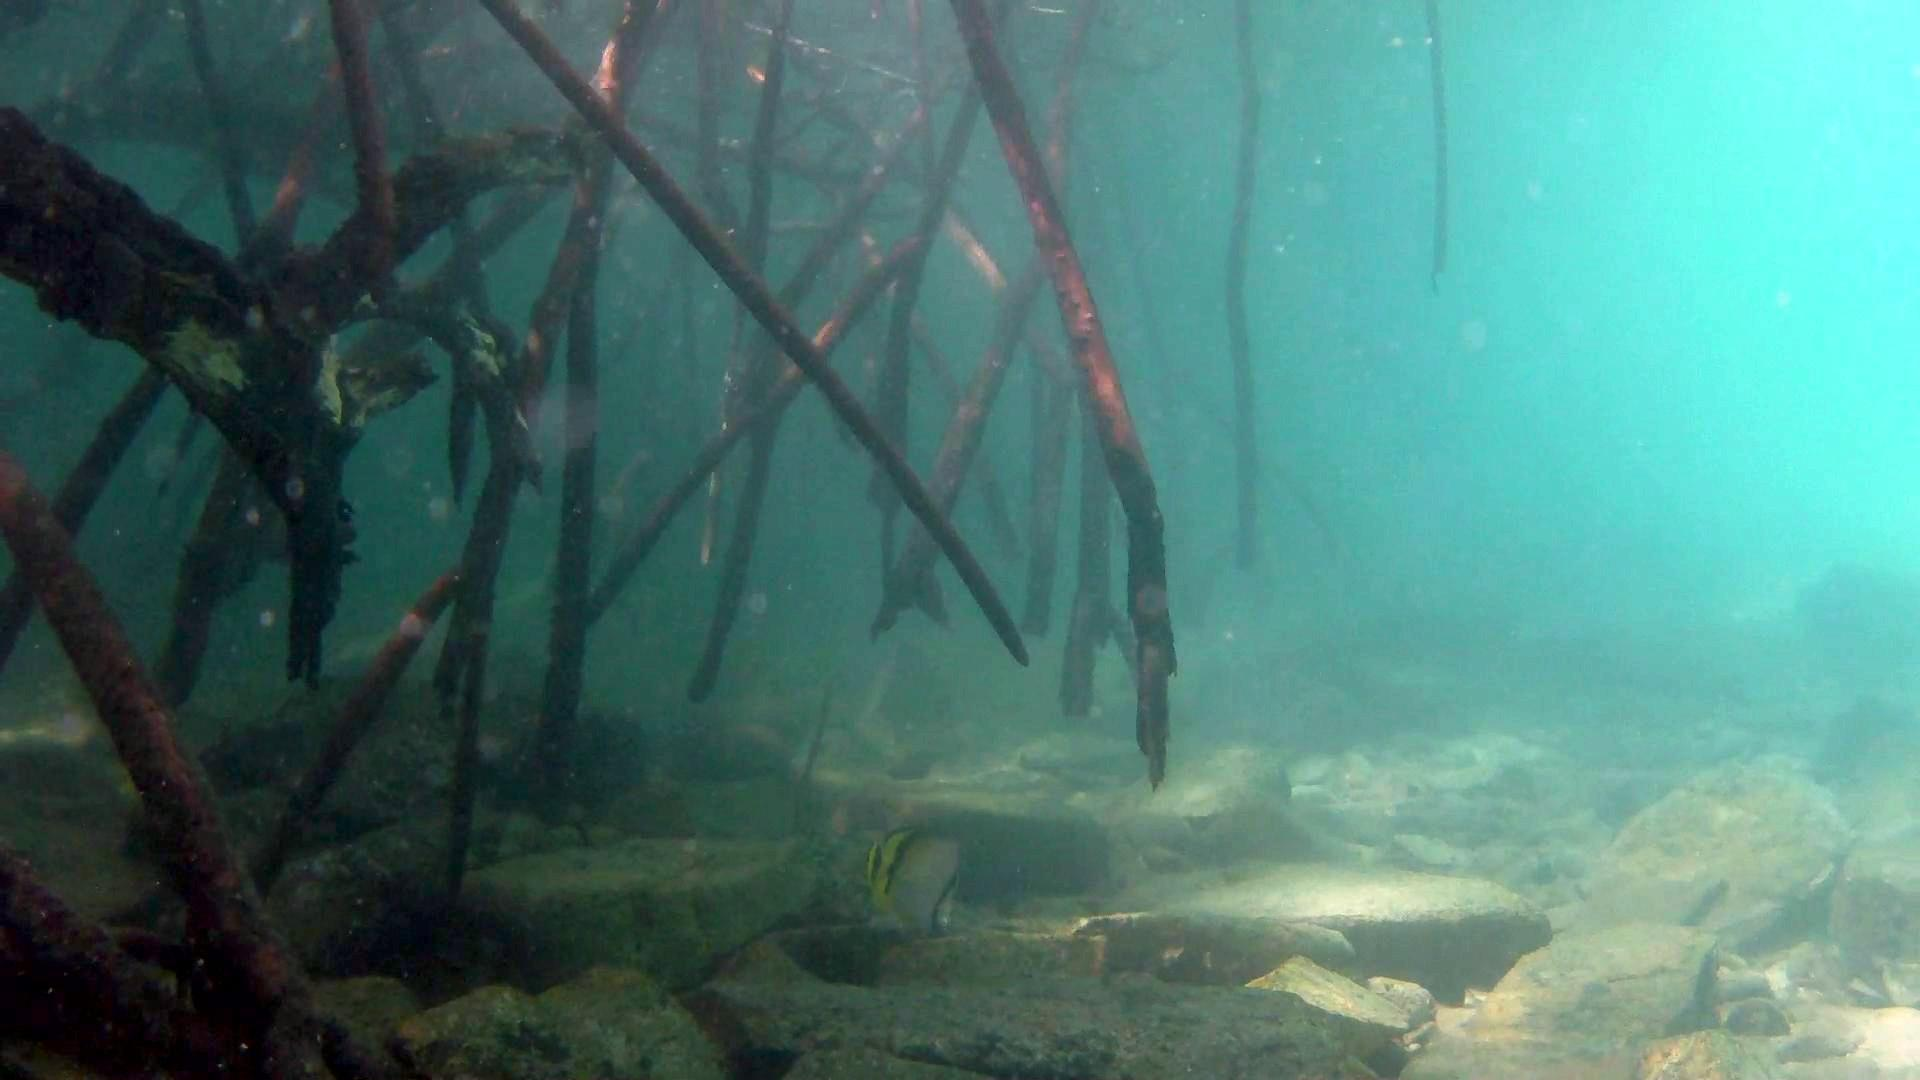chaetodon vagabundus: (860, 820, 969, 945)
